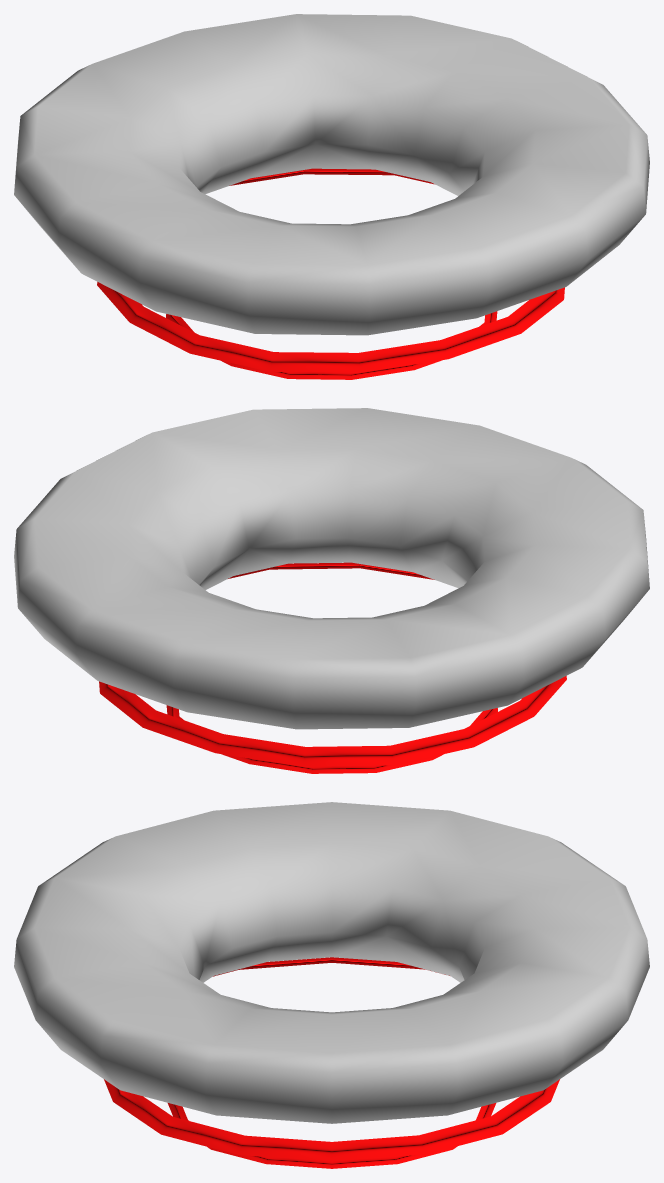
File: SM_Table_001.fbx
3 views of the same model, one above another, from view 1: azimuth 30°, elevation 25°; view 2: azimuth 150°, elevation 25°; view 3: azimuth 270°, elevation 25° (orthographic).
Visible parts, largest first — view 1: polySurface6; view 2: polySurface6; view 3: polySurface6.
Part boxes in pixels (bbox=[...]): polySurface6: bbox=[14, 14, 649, 379]; polySurface6: bbox=[14, 408, 649, 773]; polySurface6: bbox=[14, 802, 649, 1168].
Bounding box in the file's own units: 299 × 88.83 × 299.
